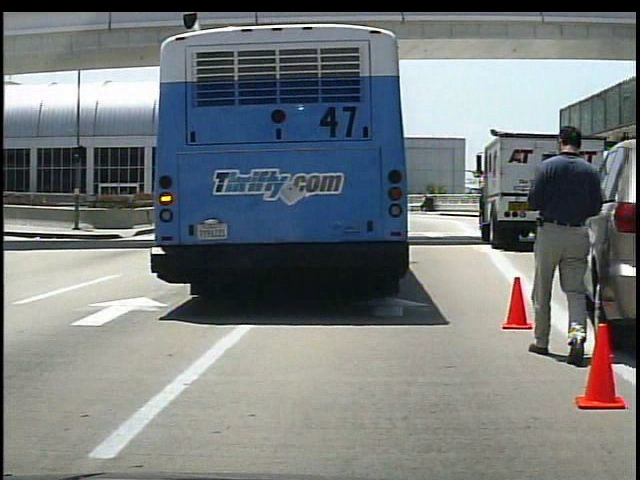person: (523, 119, 600, 367)
